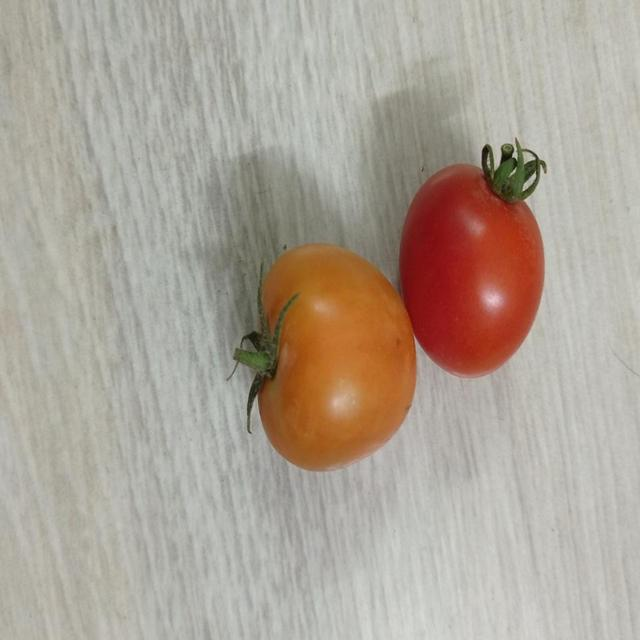Healthy Fruit: (101, 148, 313, 236)
